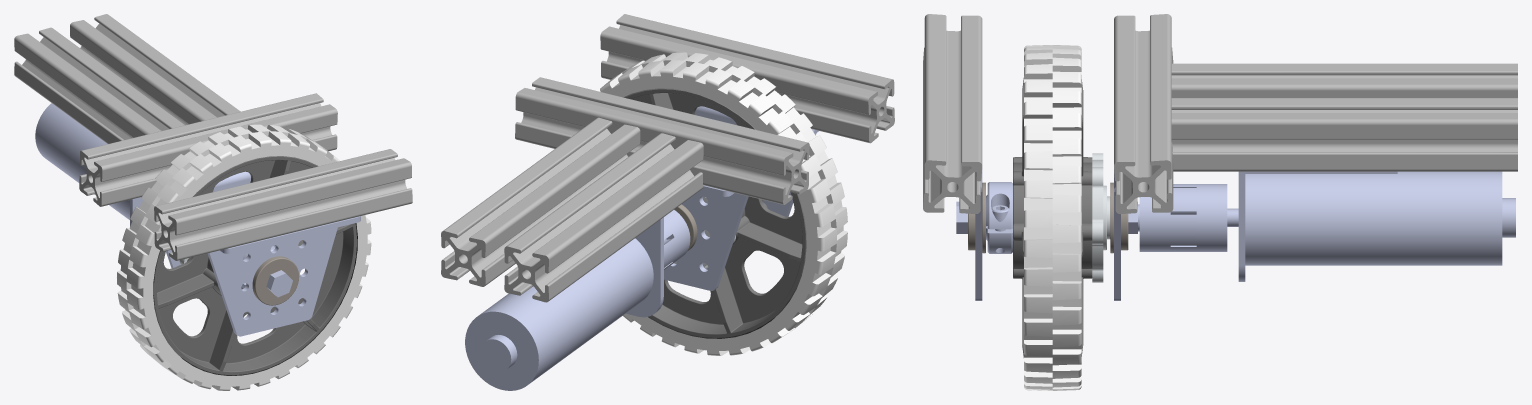
The model's file is art-drivetrain.glb.
3 renders of one model, left to right at view 1: azimuth 30°, elevation 25°; view 2: azimuth 150°, elevation 25°; view 3: azimuth 270°, elevation 25°, orthographic. The views are drawn at different scales.
Visible parts, largest first — view 1: ART-101-TSlot-1, ART-154-Bearing-am-2986-2, ART-151-Motor-42PG-Shaft-1; view 2: ART-101-TSlot-1, ART-154-Bearing-am-2986-2, ART-151-Motor-42PG-Shaft-1; view 3: ART-101-TSlot-1, ART-151-Motor-42PG-Shaft-1, ART-154-Bearing-am-2986-2.
Boxes of the visible parts, <box> form: ART-101-TSlot-1: <box>14,14,412,260</box>; ART-154-Bearing-am-2986-2: <box>117,124,371,390</box>; ART-151-Motor-42PG-Shaft-1: <box>35,103,360,336</box>; ART-101-TSlot-1: <box>441,14,894,302</box>; ART-154-Bearing-am-2986-2: <box>597,52,847,355</box>; ART-151-Motor-42PG-Shaft-1: <box>465,106,818,390</box>; ART-101-TSlot-1: <box>923,14,1517,213</box>; ART-151-Motor-42PG-Shaft-1: <box>956,169,1515,300</box>; ART-154-Bearing-am-2986-2: <box>968,45,1128,390</box>.
Size of the model in its own units: 0.1524 by 0.1523 by 0.2618.
3 materials, 3 textured.
